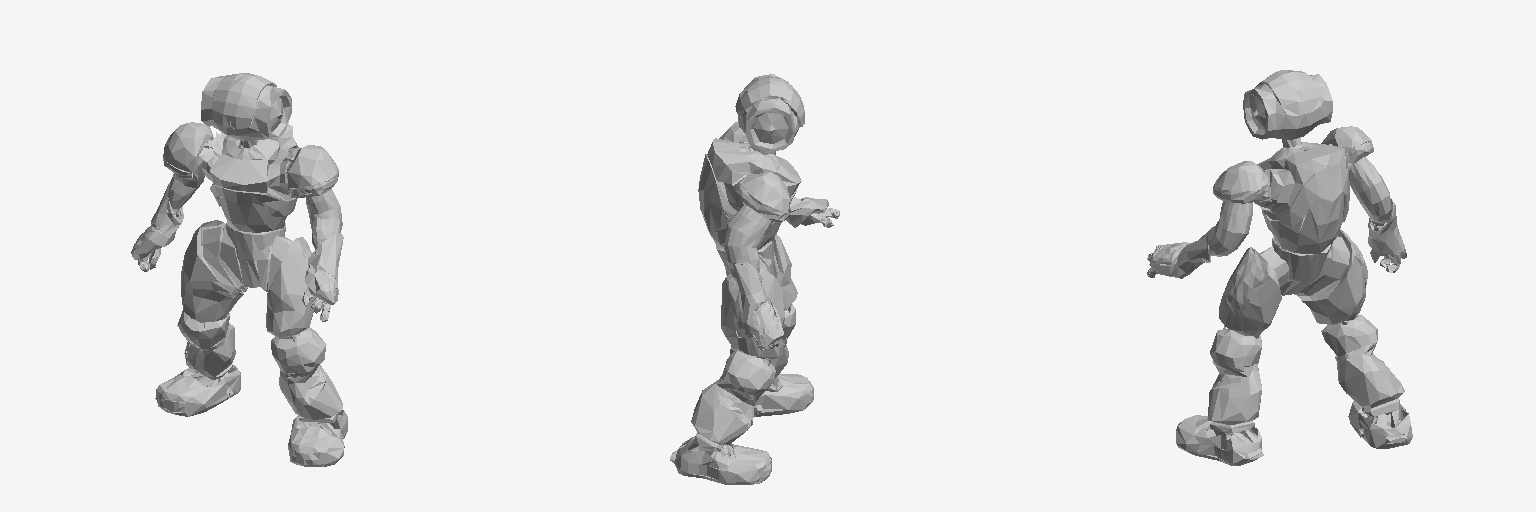
The model's file is idle20.obj.
3 views of the same model, side by side, from view 1: azimuth 30°, elevation 25°; view 2: azimuth 150°, elevation 25°; view 3: azimuth 270°, elevation 25° (orthographic).
Parts seen in each view (by area): view 1: Robot2.000_Robot2Mesh.000, Robot2.001_Robot2Mesh.002, Robot2.002_Robot2Mesh.003; view 2: Robot2.000_Robot2Mesh.000, Robot2.001_Robot2Mesh.002, Robot2.002_Robot2Mesh.003; view 3: Robot2.000_Robot2Mesh.000, Robot2.001_Robot2Mesh.002, Robot2.002_Robot2Mesh.003.
Part boxes in pixels (left/top/right/bottom): Robot2.000_Robot2Mesh.000: left=131, top=76, right=347, bottom=466; Robot2.001_Robot2Mesh.002: left=134, top=73, right=338, bottom=464; Robot2.002_Robot2Mesh.003: left=166, top=137, right=342, bottom=287; Robot2.000_Robot2Mesh.000: left=670, top=74, right=839, bottom=484; Robot2.001_Robot2Mesh.002: left=698, top=76, right=838, bottom=479; Robot2.002_Robot2Mesh.003: left=715, top=143, right=779, bottom=281; Robot2.000_Robot2Mesh.000: left=1147, top=74, right=1412, bottom=465; Robot2.001_Robot2Mesh.002: left=1147, top=70, right=1399, bottom=437; Robot2.002_Robot2Mesh.003: left=1204, top=137, right=1390, bottom=295.
Size of the model in its own units: 0.83 by 2.03 by 1.36.